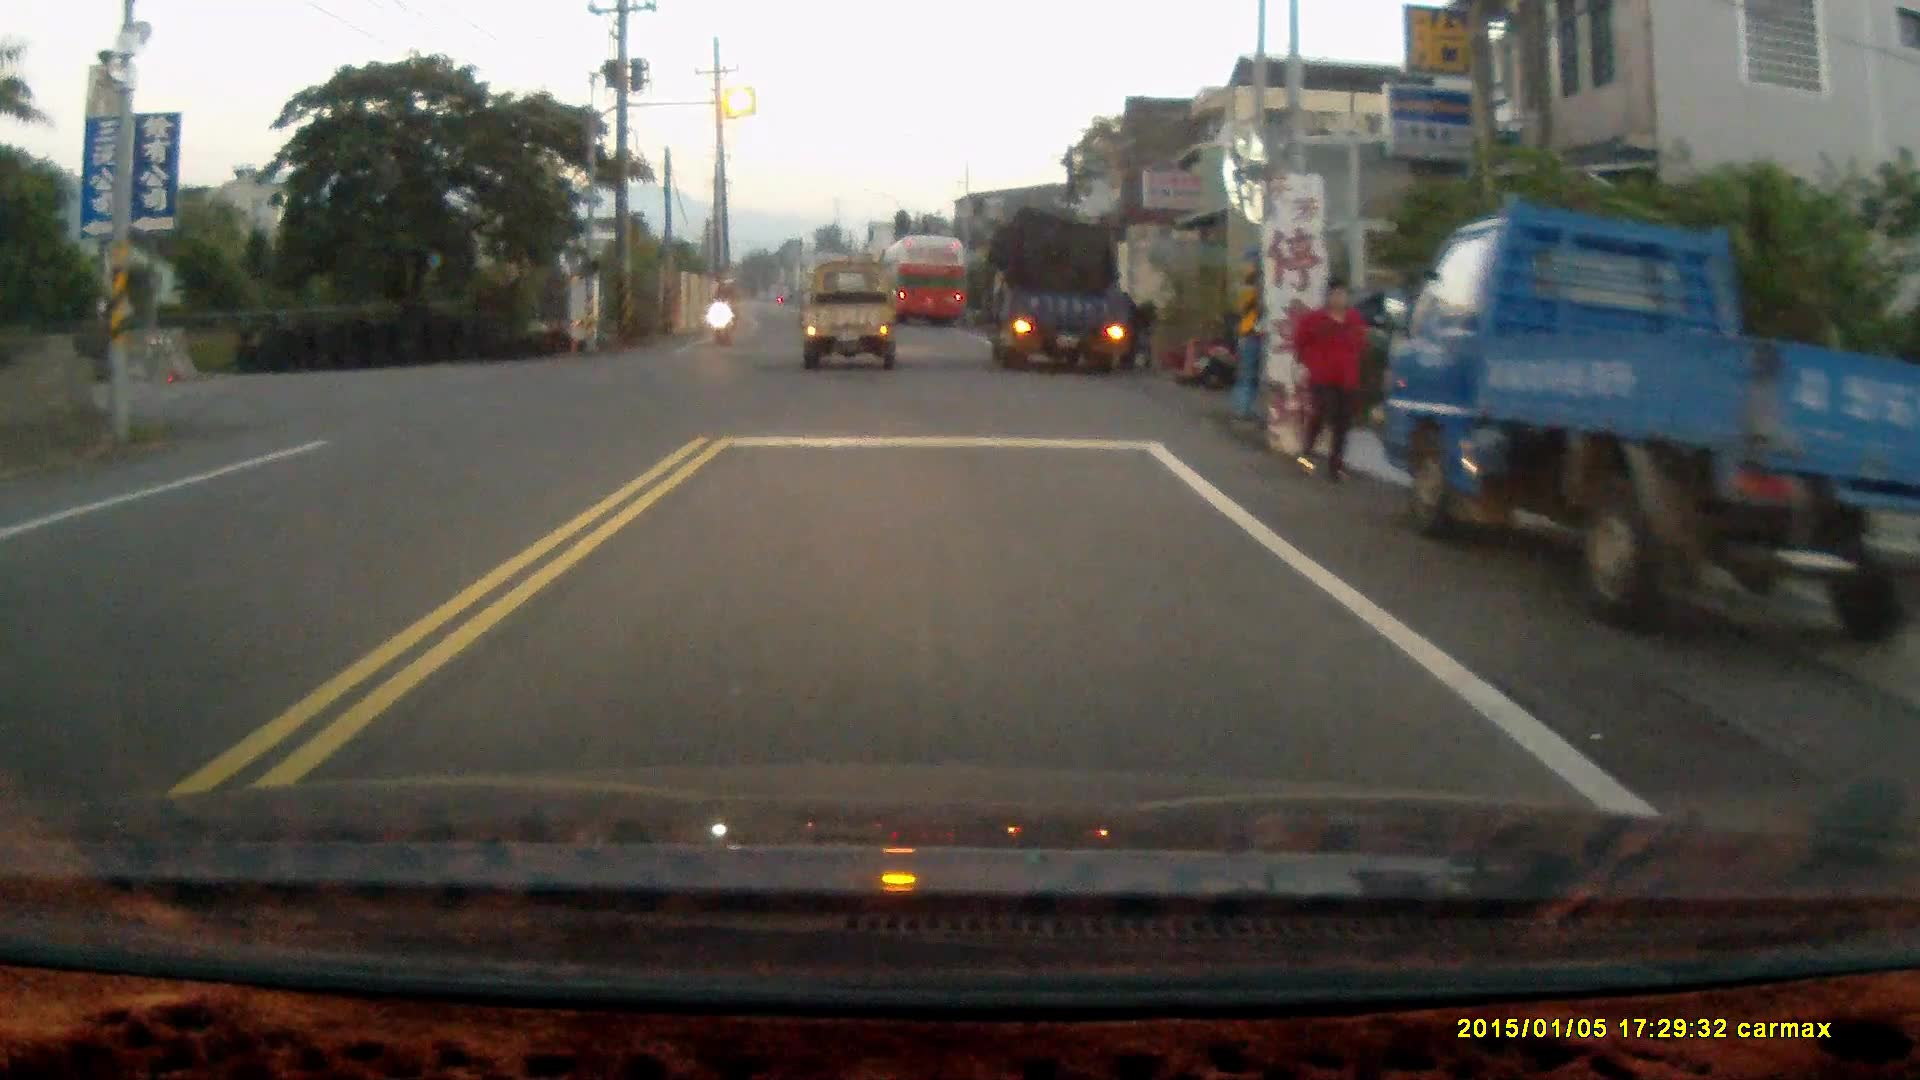pedestrian: (1288, 273, 1369, 488)
rider: (705, 276, 734, 343)
vehicle: (1383, 192, 1920, 614), (991, 212, 1152, 383), (807, 263, 905, 372), (887, 237, 972, 328)
